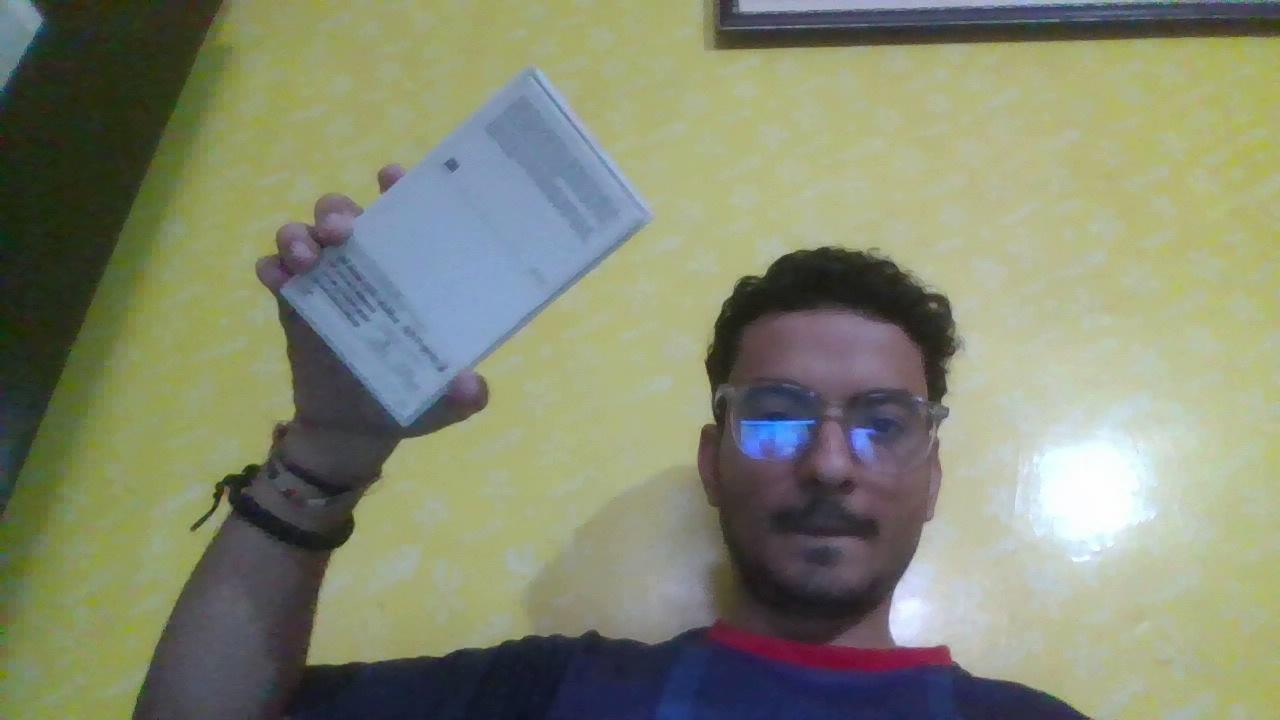Phone: (289, 65, 614, 406)
